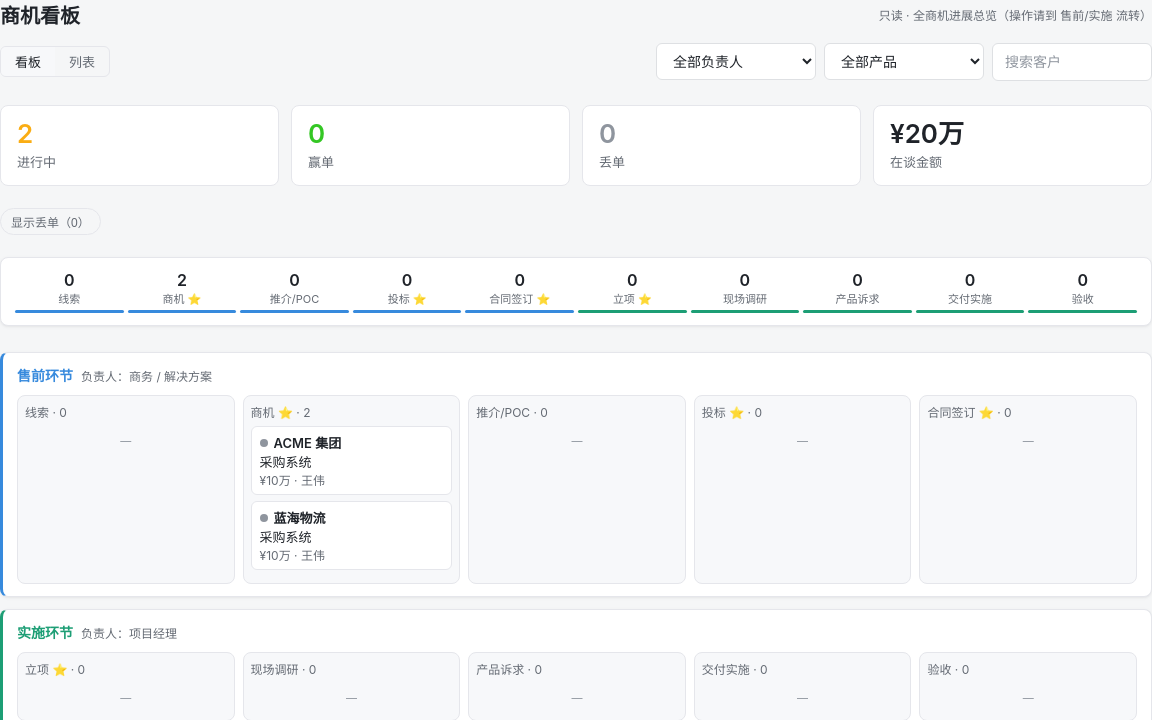
OpportunityBoard (read-only) › searches customer name case-insensitively (TC-OPPB-11)
Expected: the button with test id "opp-card-8" is shown, [251, 501, 452, 570]
Type "acme" into the field with test id "opp-filter-q". click: point(1072, 62)
box: [992, 43, 1151, 81]
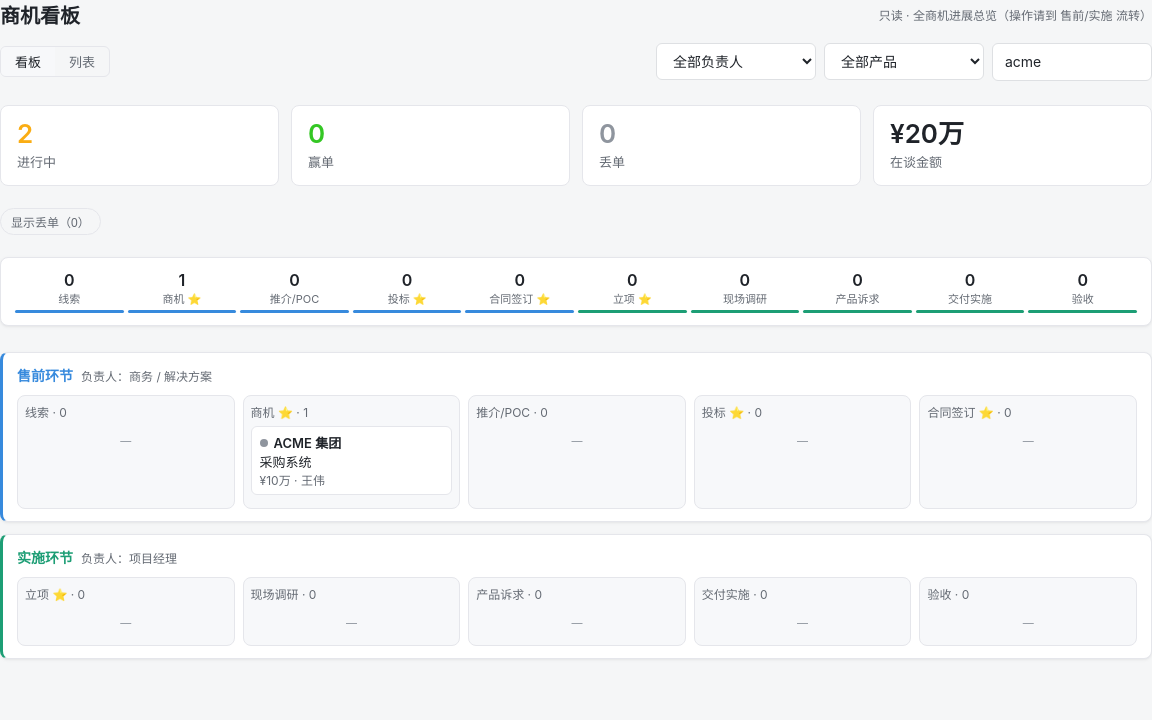
Expected: the button with test id "opp-card-7" is shown, [251, 426, 452, 495]
Expected: the button with test id "opp-card-8" is gone
